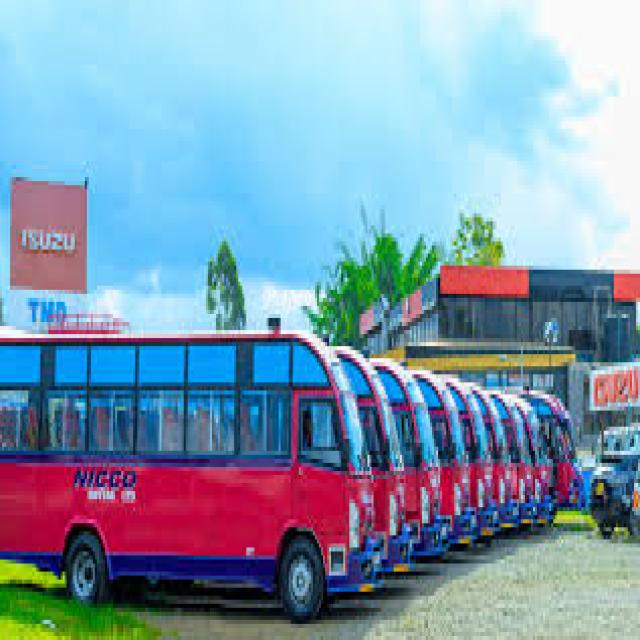bus: (0, 303, 384, 640)
